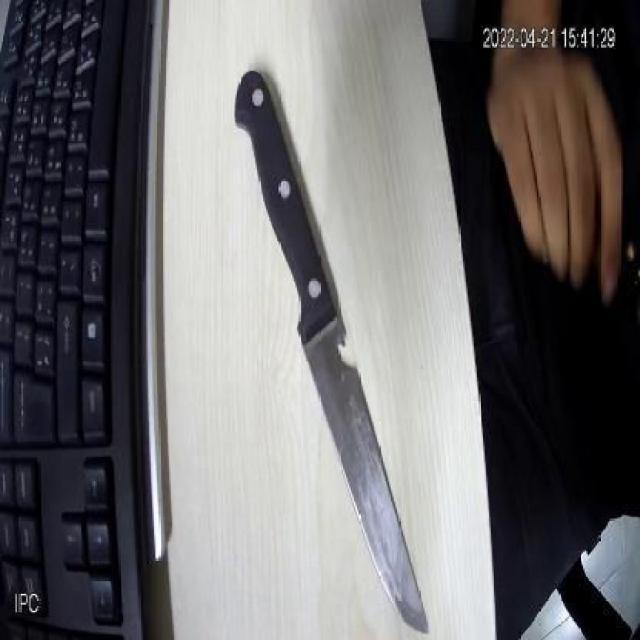-: (229, 65, 440, 639)
